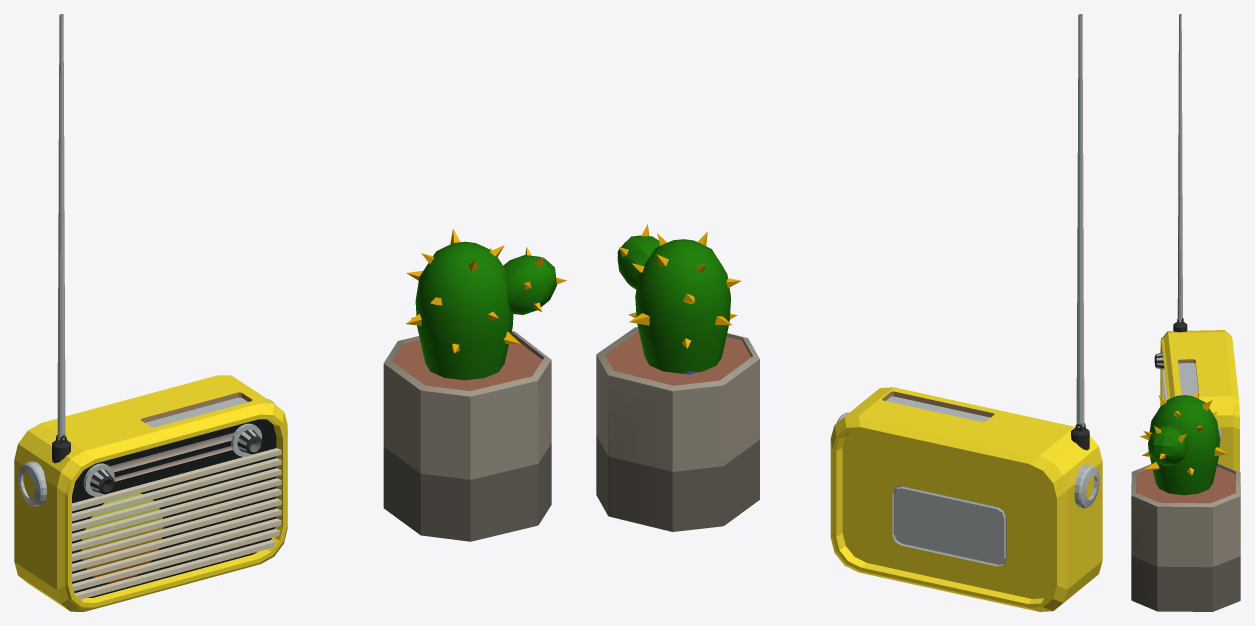
Rendered from Radio.fbx.
The picture shows the model from 3 angles, left to right: view 1: azimuth 30°, elevation 25°; view 2: azimuth 150°, elevation 25°; view 3: azimuth 270°, elevation 25°; orthographic projection. The views are drawn at different scales.
Visible parts, largest first — view 1: Radio, Bush; view 2: Radio, Bush; view 3: Bush, Radio.
Boxes of the visible parts, x1,y1,x2,y2 form: Radio: (14, 14, 287, 611); Bush: (383, 229, 566, 541); Radio: (830, 14, 1102, 611); Bush: (596, 224, 759, 531); Bush: (1131, 391, 1240, 611); Radio: (1154, 14, 1239, 472).
Size of the model in its own units: 72.18 by 79.62 by 18.39.
Materials: 1 (1 with a texture image).
